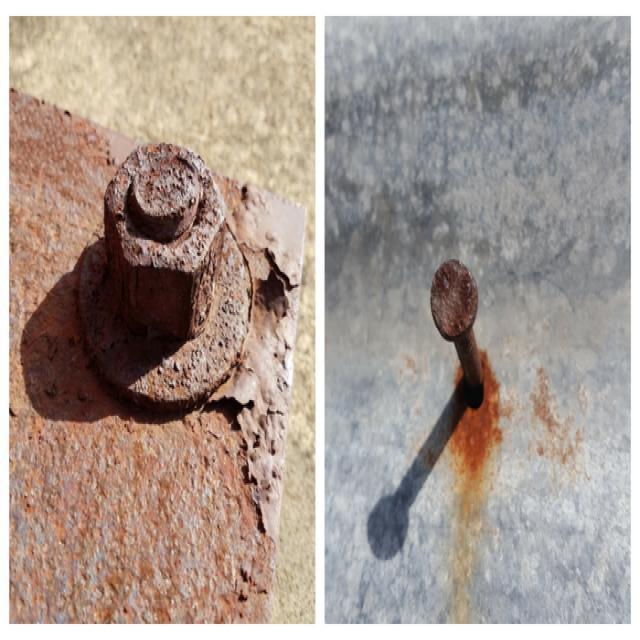Uniform Corrosion: (10, 91, 303, 623), (431, 259, 483, 407)
